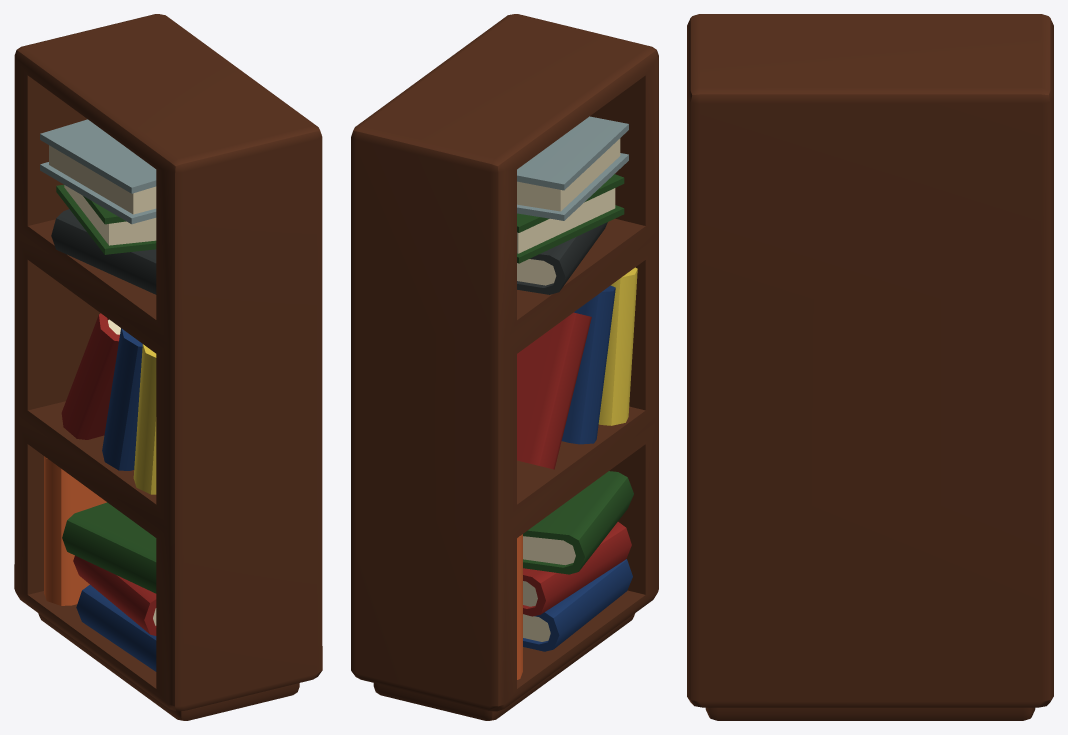
Rendered from BOOKSHELF.fbx.
The picture shows the model from 3 angles, left to right: view 1: azimuth 30°, elevation 25°; view 2: azimuth 150°, elevation 25°; view 3: azimuth 270°, elevation 25°; orthographic projection. The views are drawn at different scales.
Visible parts, largest first — view 1: BOOKSHELF, BOOK3, BOOK8, BOOK5, BOOK9, BOOK4, BOOK1, BOOK2, BOOK6, BOOK, BOOK7; view 2: BOOKSHELF, BOOK9, BOOK3, BOOK8, BOOK4, BOOK6, BOOK, BOOK2, BOOK7, BOOK1, BOOK5; view 3: BOOKSHELF.
Boxes of the visible parts, left/top/right/bottom form: BOOKSHELF: left=14, top=14, right=322, bottom=720; BOOK3: left=40, top=119, right=156, bottom=224; BOOK8: left=62, top=502, right=156, bottom=593; BOOK5: left=44, top=456, right=106, bottom=605; BOOK9: left=61, top=313, right=120, bottom=439; BOOK4: left=102, top=328, right=142, bottom=470; BOOK1: left=51, top=209, right=156, bottom=294; BOOK2: left=56, top=184, right=156, bottom=254; BOOK6: left=76, top=585, right=156, bottom=671; BOOK: left=133, top=344, right=156, bottom=494; BOOK7: left=73, top=555, right=156, bottom=635; BOOKSHELF: left=351, top=14, right=658, bottom=720; BOOK9: left=517, top=312, right=591, bottom=469; BOOK3: left=517, top=116, right=628, bottom=220; BOOK8: left=523, top=471, right=633, bottom=574; BOOK4: left=561, top=285, right=615, bottom=444; BOOK6: left=523, top=559, right=632, bottom=651; BOOK: left=598, top=267, right=637, bottom=425; BOOK2: left=517, top=174, right=624, bottom=263; BOOK7: left=523, top=522, right=631, bottom=616; BOOK1: left=517, top=222, right=607, bottom=294; BOOK5: left=517, top=534, right=522, bottom=679; BOOKSHELF: left=687, top=14, right=1053, bottom=720.
Size of the model in its own units: 31.97 by 103 by 53.27.
